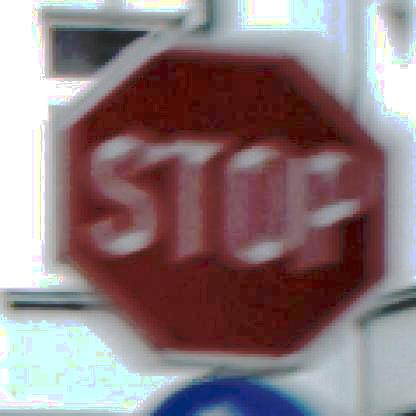Stop Sign: (50, 32, 409, 376)
